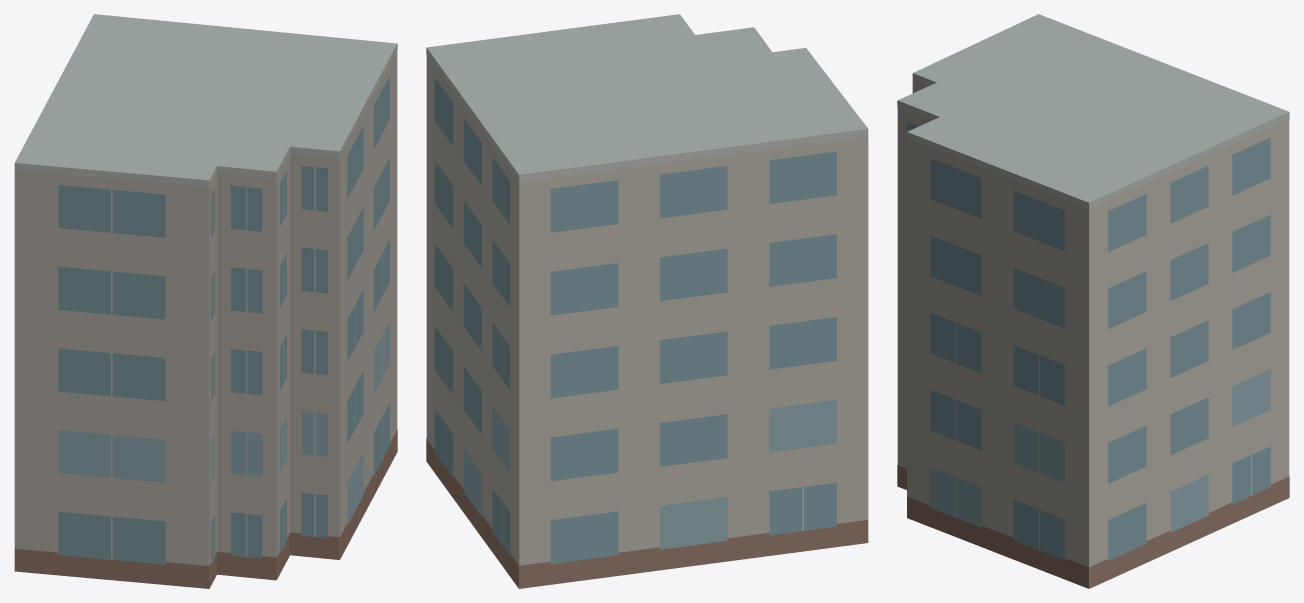
Rendered from survey-upis-33032672.glb.
The picture shows the model from 3 angles, left to right: view 1: azimuth 30°, elevation 25°; view 2: azimuth 150°, elevation 25°; view 3: azimuth 270°, elevation 25°; orthographic projection. The views are drawn at different scales.
Visible parts, largest first — view 1: survey-upis-33032672.tmp; view 2: survey-upis-33032672.tmp; view 3: survey-upis-33032672.tmp.
Part boxes in pixels (box(x1,y1,x2,y2)): survey-upis-33032672.tmp: box(14, 14, 397, 588); survey-upis-33032672.tmp: box(426, 14, 868, 588); survey-upis-33032672.tmp: box(897, 14, 1289, 588).
Bounding box in the file's own units: 15 × 14.3 × 13.16.
